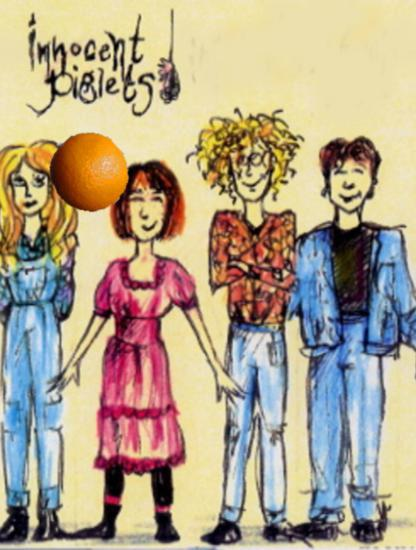Orange: (47, 130, 130, 213)
